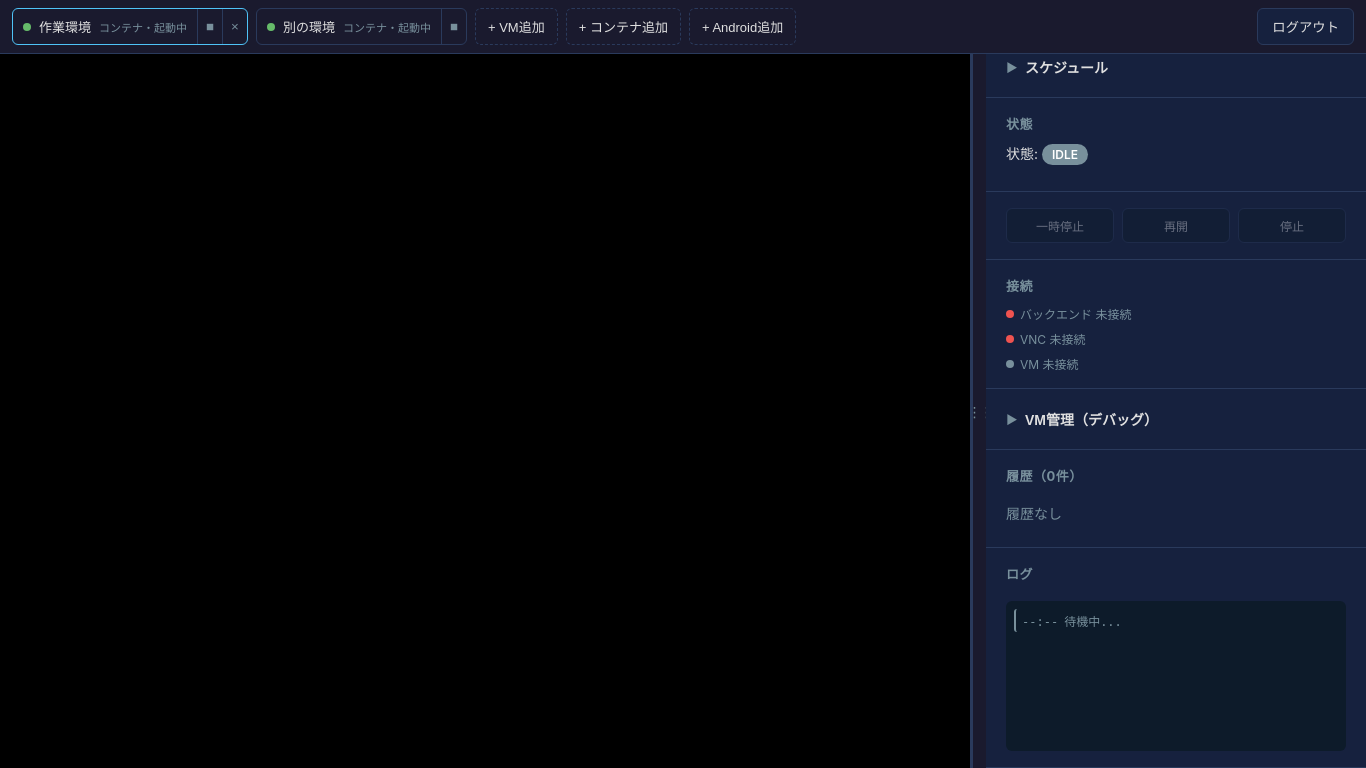
Test: creation completing after navigation does not move the user back
(page scrolled)
Expected: the button named "作業環境を停止" is shown, left=197, top=9, right=222, bottom=44
Click the button "+ コンテナ追加" at (623, 26), box left=566, top=8, right=681, bottom=45
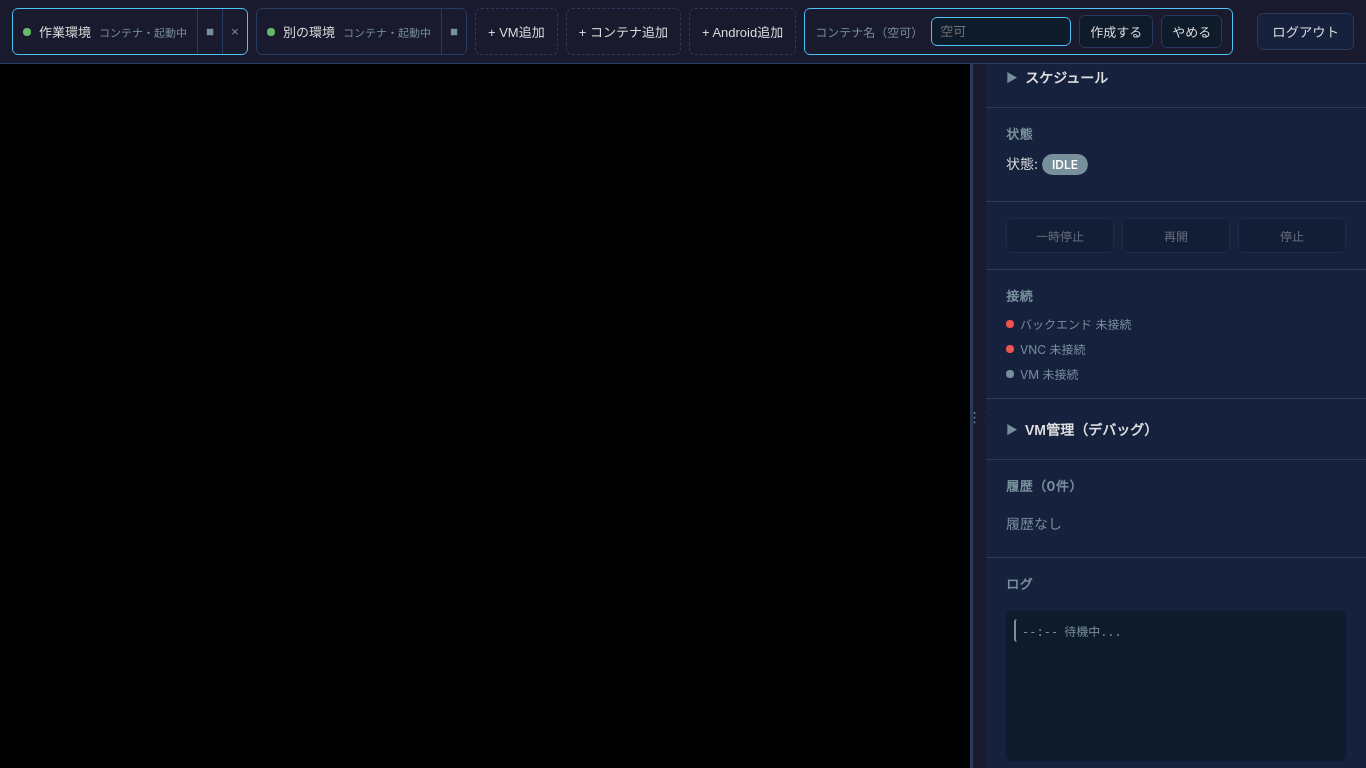
Type "作成待ち" into the field named "コンテナ名" at (1001, 32), box left=931, top=17, right=1071, bottom=46
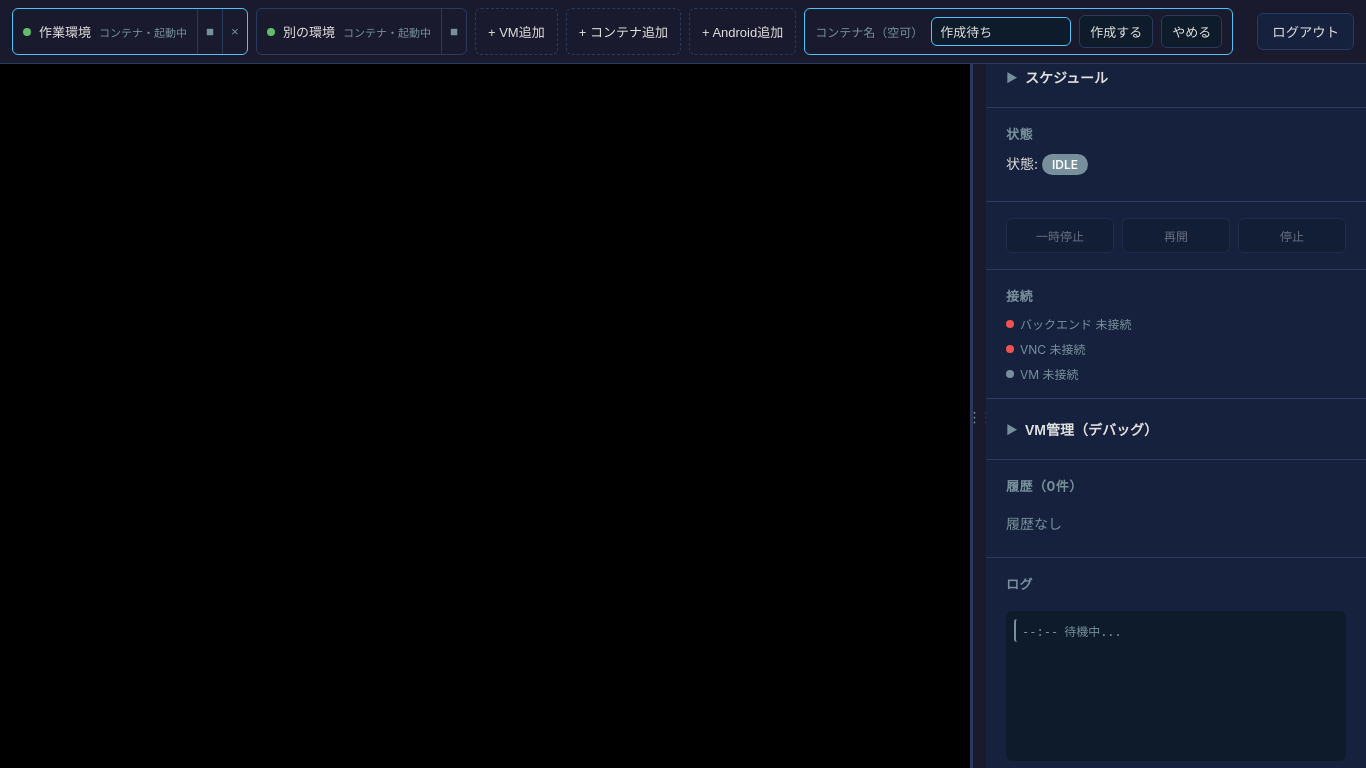
Click the button "作成する" at (1116, 32), box left=1079, top=15, right=1153, bottom=48
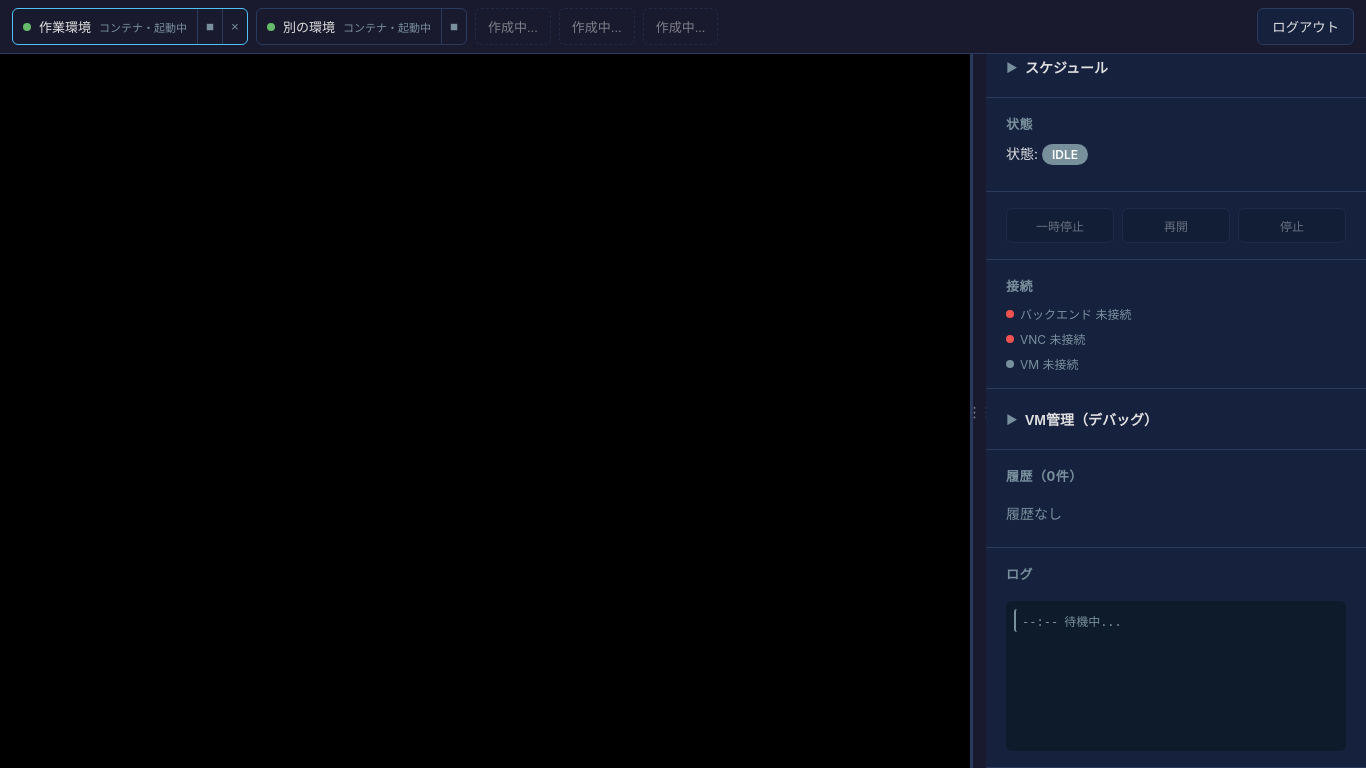
Click the button "別の環境 コンテナ・起動中" at (349, 26), box left=257, top=9, right=441, bottom=44
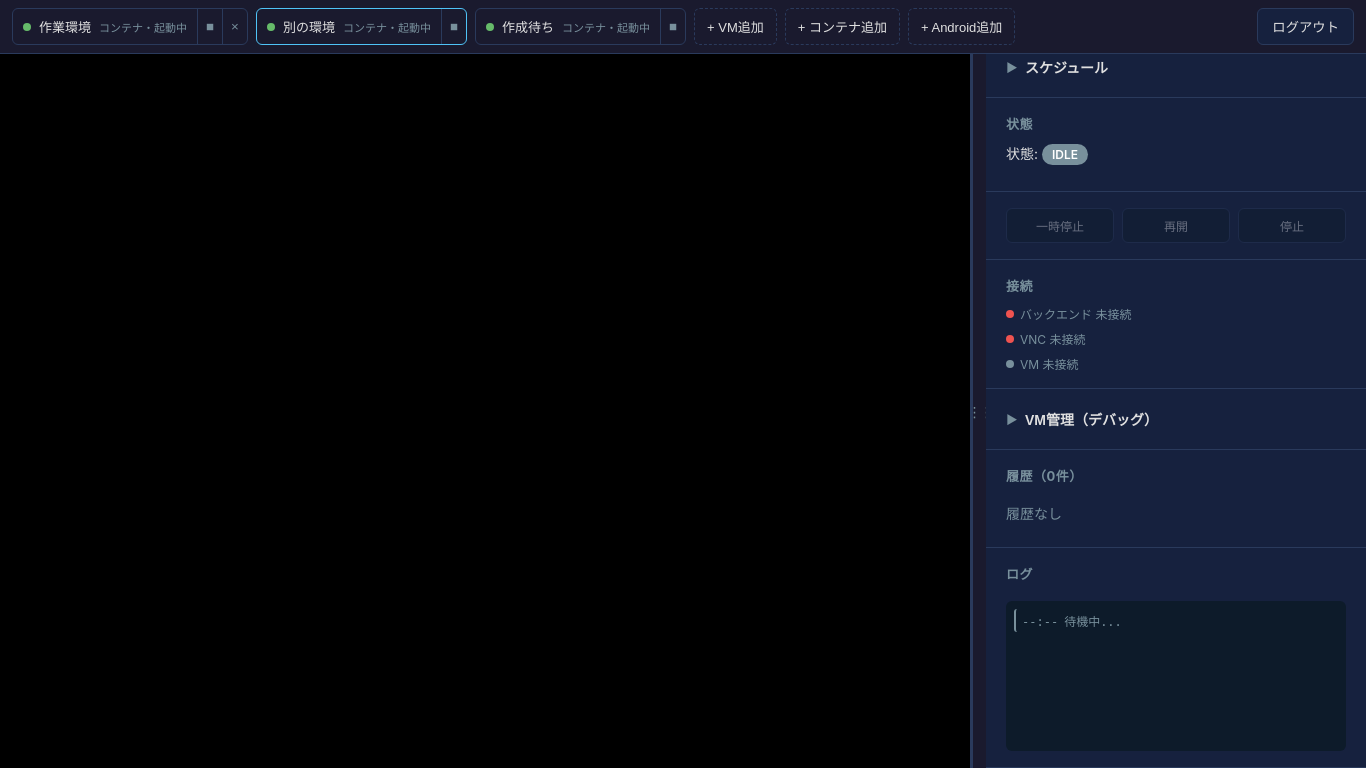
Now the text "作成待ち" is shown, box left=502, top=17, right=554, bottom=36
